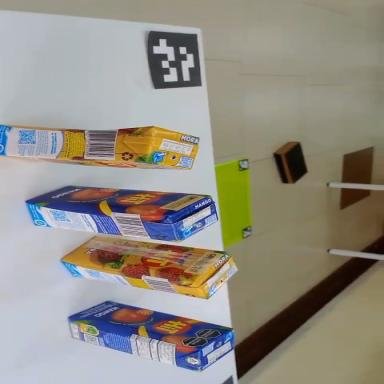HIT-MANGO: (63, 292, 236, 378), (24, 182, 219, 245)
HIT-MORA: (59, 231, 239, 302), (0, 125, 199, 169)
cara_F: (66, 293, 234, 356), (60, 232, 227, 287), (26, 183, 210, 220), (0, 156, 189, 170)
